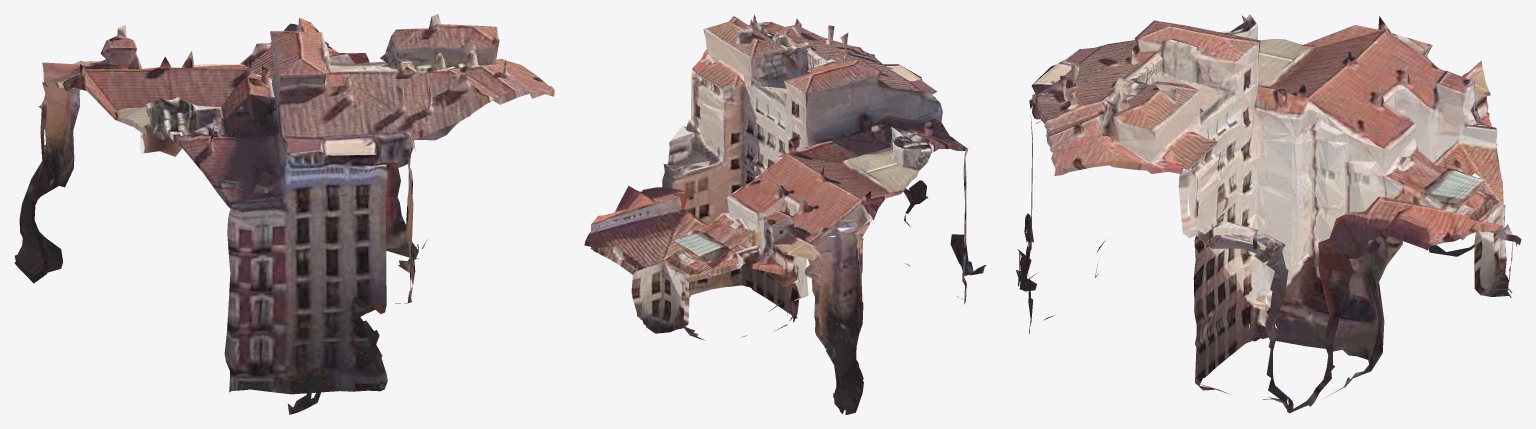
3 renders of one model, left to right at view 1: azimuth 30°, elevation 25°; view 2: azimuth 150°, elevation 25°; view 3: azimuth 270°, elevation 25°, orthographic. The views are drawn at different scales.
Visible parts, largest first — view 1: Mesh_0; view 2: Mesh_0; view 3: Mesh_0.
Part boxes in pixels (left/top/right/bottom): Mesh_0: left=14, top=14, right=554, bottom=414; Mesh_0: left=584, top=14, right=986, bottom=414; Mesh_0: left=1016, top=14, right=1521, bottom=413.
Size of the model in its own units: 33.32 by 28.03 by 41.32.
2 materials, 2 textured.
